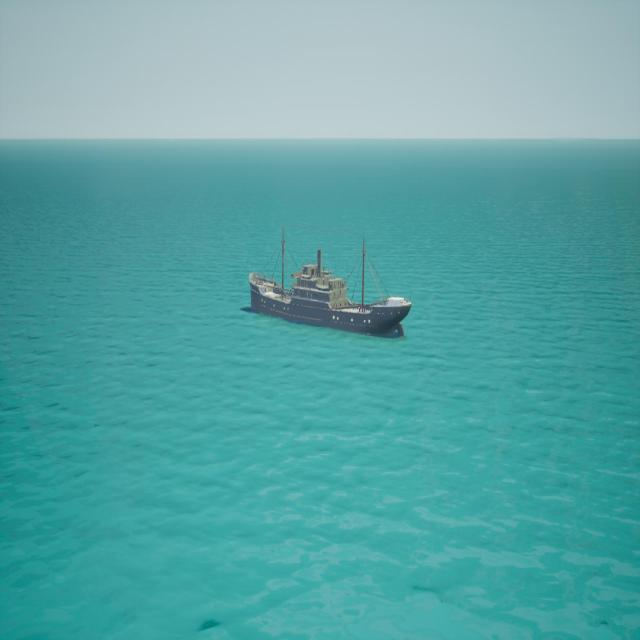fishing ship: (248, 234, 413, 340)
